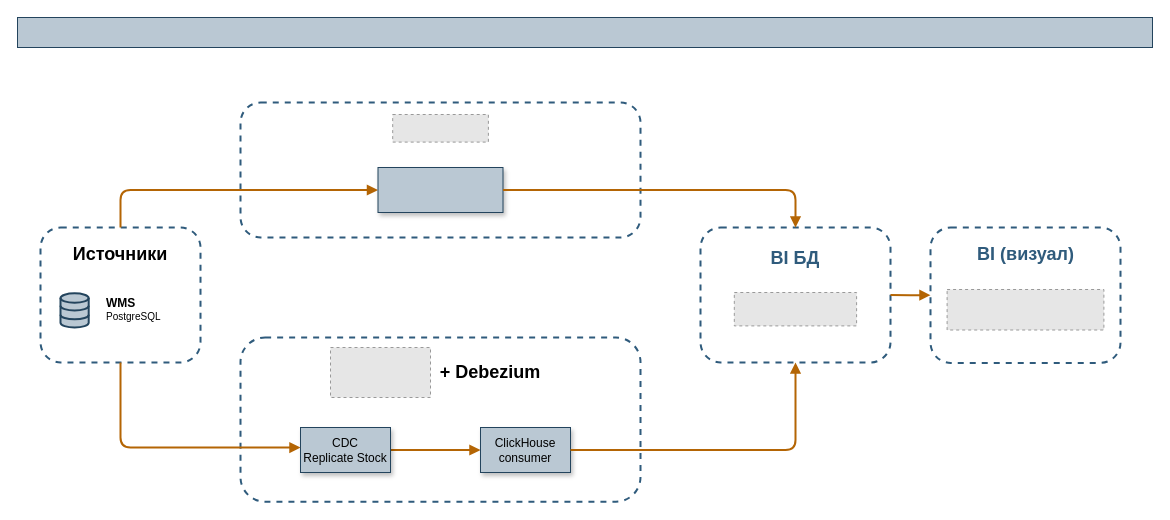
The diagram is 1170 pixels wide and 520 high, and some of its shapes have lost their labels. Grey dashed boxes stand in for pictures. Here are the shapes that lost their labels. From the top down, the centre of each, then its label:
At point (584, 32): "Архитектура проекта «Контроль и прогнозирование остатков на складах»".
At point (441, 191): "EXTRACT & LOAD DATA".
